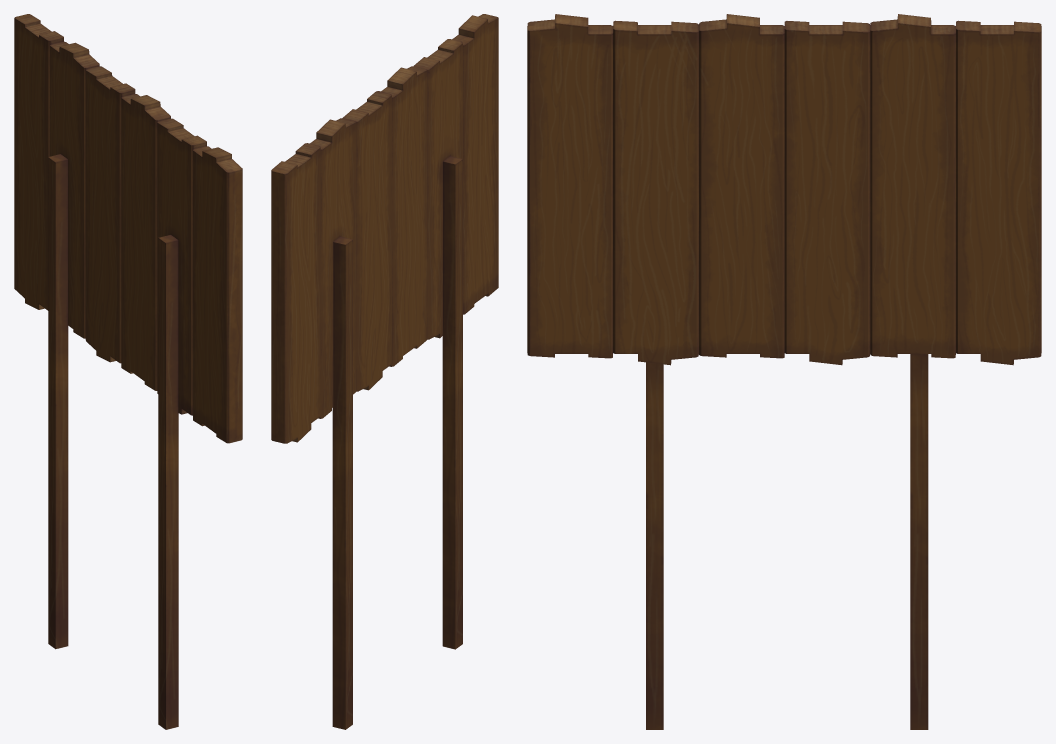
The model's file is wooden_sign_blank.fbx.
The picture shows the model from 3 angles, left to right: view 1: azimuth 30°, elevation 25°; view 2: azimuth 150°, elevation 25°; view 3: azimuth 270°, elevation 25°; orthographic projection. The views are drawn at different scales.
Parts seen in each view (by area): view 1: sign_base1, sign_leg_2, sign_leg_1; view 2: sign_base1, sign_leg_1, sign_leg_2; view 3: sign_base1, sign_leg_1, sign_leg_2.
Boxes of the visible parts, left/top/right/bottom form: sign_base1: left=14, top=14, right=242, bottom=443; sign_leg_2: left=158, top=235, right=178, bottom=729; sign_leg_1: left=48, top=154, right=68, bottom=649; sign_base1: left=271, top=14, right=498, bottom=443; sign_leg_1: left=332, top=236, right=352, bottom=729; sign_leg_2: left=442, top=156, right=462, bottom=649; sign_base1: left=527, top=14, right=1041, bottom=365; sign_leg_1: left=910, top=354, right=928, bottom=729; sign_leg_2: left=646, top=362, right=663, bottom=729.
Size of the model in its own units: 9.93 by 200 by 130.
1 material, 1 textured.
